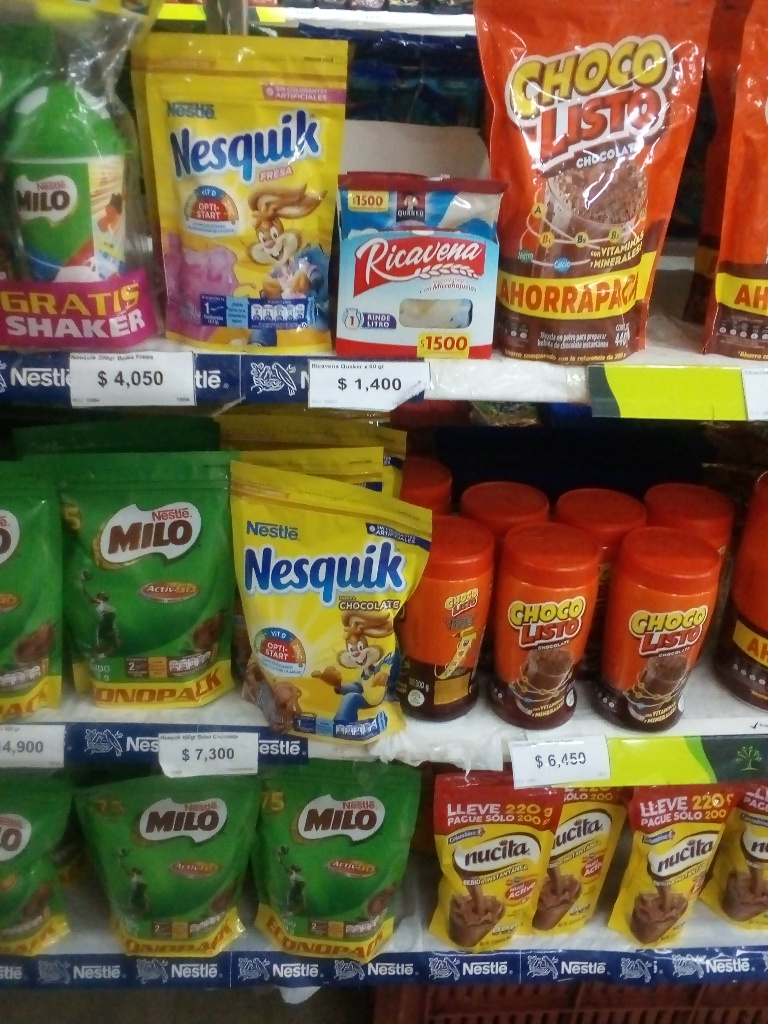COL0170103DYP44000: (474, 2, 717, 366)
COL0170103TRR30000: (389, 513, 490, 722)
COL0170203DYP25000: (261, 759, 419, 956)
COL0170303DYP20000: (230, 464, 436, 745)
COL0170305DYP20000: (137, 31, 341, 349)
